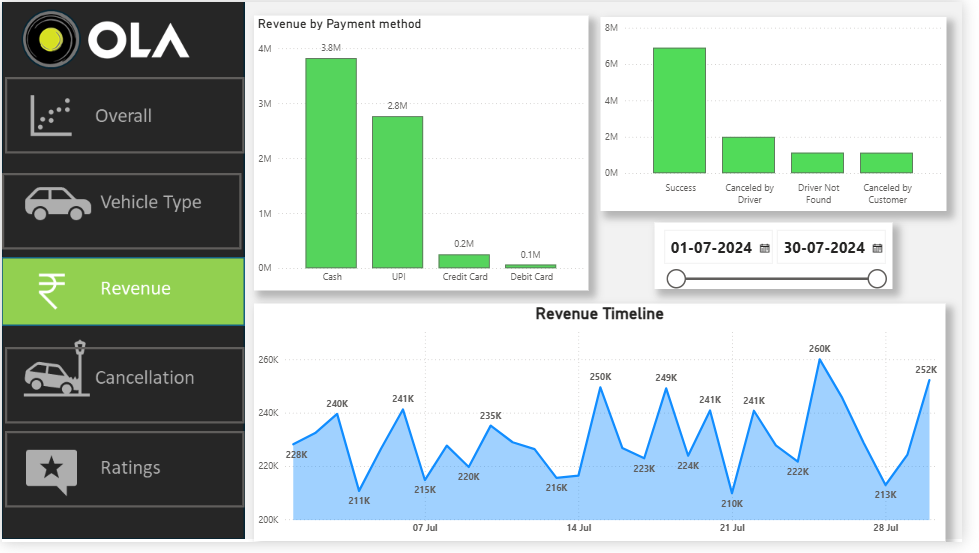

The page's visual inventory and layout, read from the dashboard file:
{"tool":"powerbi","page":{"name":"Revenue","canvas":[1280,720],"ordinal":2},"visuals":[{"type":"clusteredColumnChart","title":"Revenue by Payment method","fields":{"Y":["Sum(July.Booking_Value)"],"Category":["July.Payment_Method"]},"box":[336.4,17,446,366.6],"z":0},{"type":"lineChart","title":"Revenue Timeline","fields":{"Y":["Sum(July.Booking_Value)"],"Category":["July.Date.Variation.Date Hierarchy.Year","July.Date.Variation.Date Hierarchy.Quarter","July.Date.Variation.Date Hierarchy.Month","July.Date.Variation.Date Hierarchy.Day"]},"box":[336.4,402.5,922.2,317.5],"z":1},{"type":"clusteredColumnChart","fields":{"Y":["Sum(July.Booking_Value)"],"Category":["July.Booking_Status"]},"box":[797.5,20.8,461.1,258.9],"z":2},{"type":"slicer","fields":{"Values":["July.Date"]},"box":[869.3,294.8,317.5,88.8],"z":3},{"type":"actionButton","box":[3.8,572.6,319.4,102],"z":4},{"type":"actionButton","box":[3.8,459.2,319.4,102],"z":5},{"type":"actionButton","box":[0,228.7,319.4,102],"z":6},{"type":"actionButton","box":[3.8,100.2,319.4,102],"z":7}]}

Visuals, with their boxes on the page's 1280x720 design canvas (x1, y1, x2, y2). These are canvas units, not pixel positions in the 979x553 screenshot, which may show the page scaled, cropped or inside an application window:
"Revenue by Payment method" clusteredColumnChart: pyautogui.locateOnScreen(336, 17, 782, 384)
"Revenue Timeline" lineChart: pyautogui.locateOnScreen(336, 402, 1259, 720)
clusteredColumnChart - Sum(July.Booking_Value) x July.Booking_Status: pyautogui.locateOnScreen(798, 21, 1259, 280)
slicer - July.Date: pyautogui.locateOnScreen(869, 295, 1187, 384)
actionButton: pyautogui.locateOnScreen(4, 573, 323, 675)
actionButton: pyautogui.locateOnScreen(4, 459, 323, 561)
actionButton: pyautogui.locateOnScreen(0, 229, 319, 331)
actionButton: pyautogui.locateOnScreen(4, 100, 323, 202)
